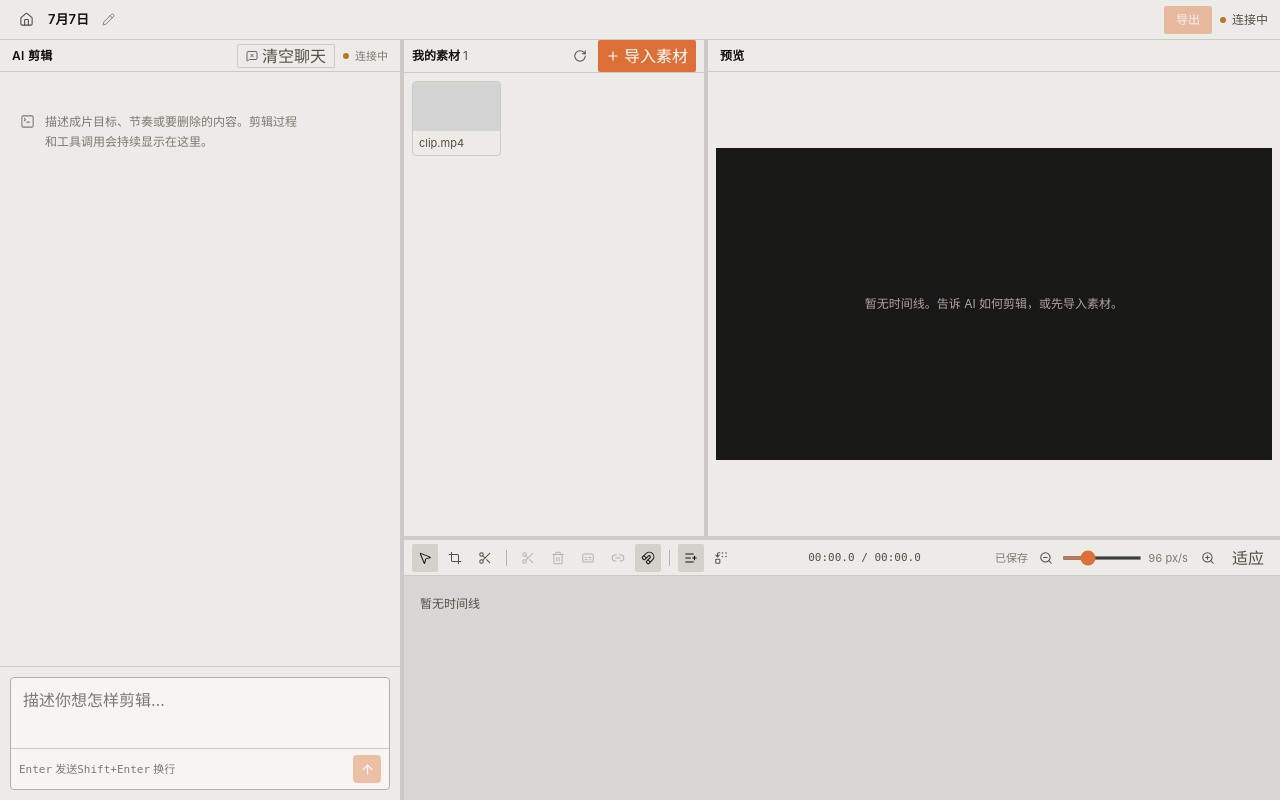
Test case: DraftEditorView › 单击素材瓦片在预览区挂载试看，再击取消回占位
Click the button titled "clip.mp4" at (457, 119), box [413,82,500,155]
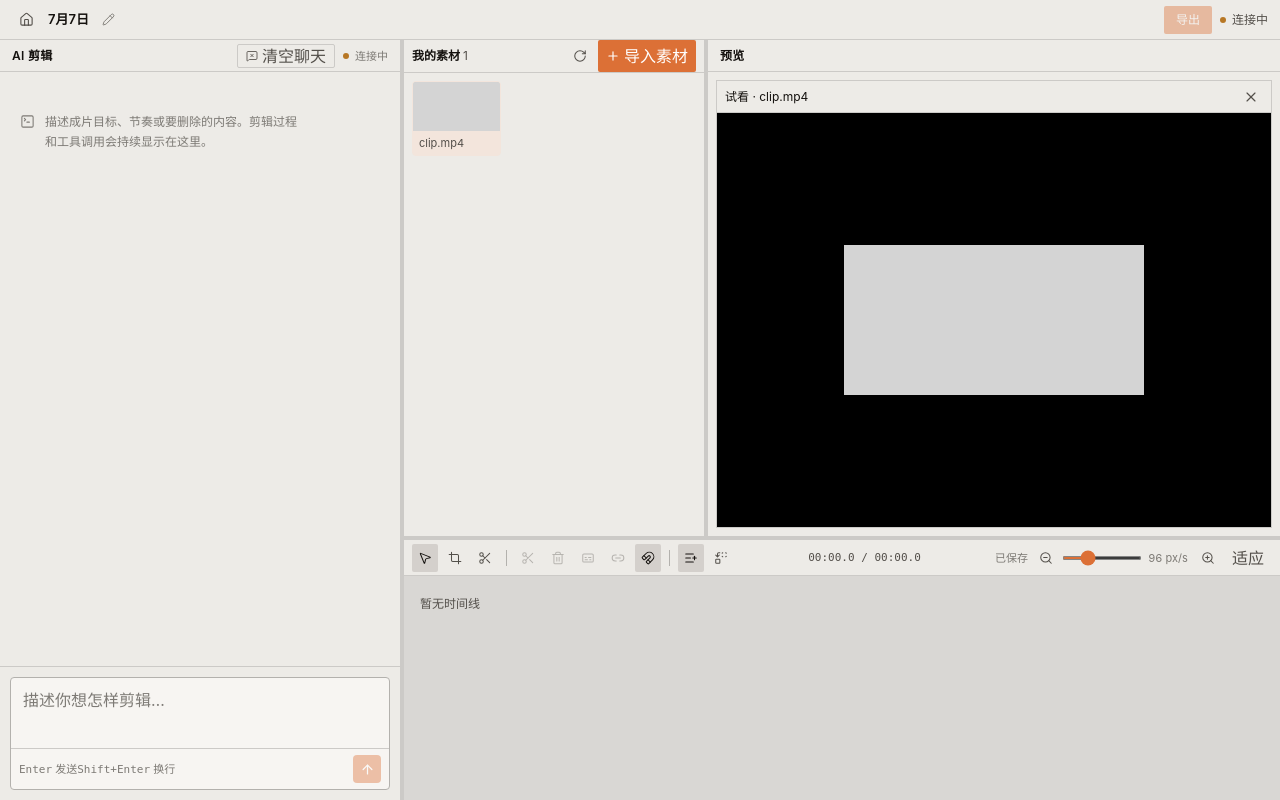
Check: the text "试看 · clip.mp4" is shown, box [725,88,808,104]
再次单击同一瓦片取消试看，回到「暂无时间线」占位
Click the button titled "clip.mp4" at (457, 119), box [413,82,500,155]
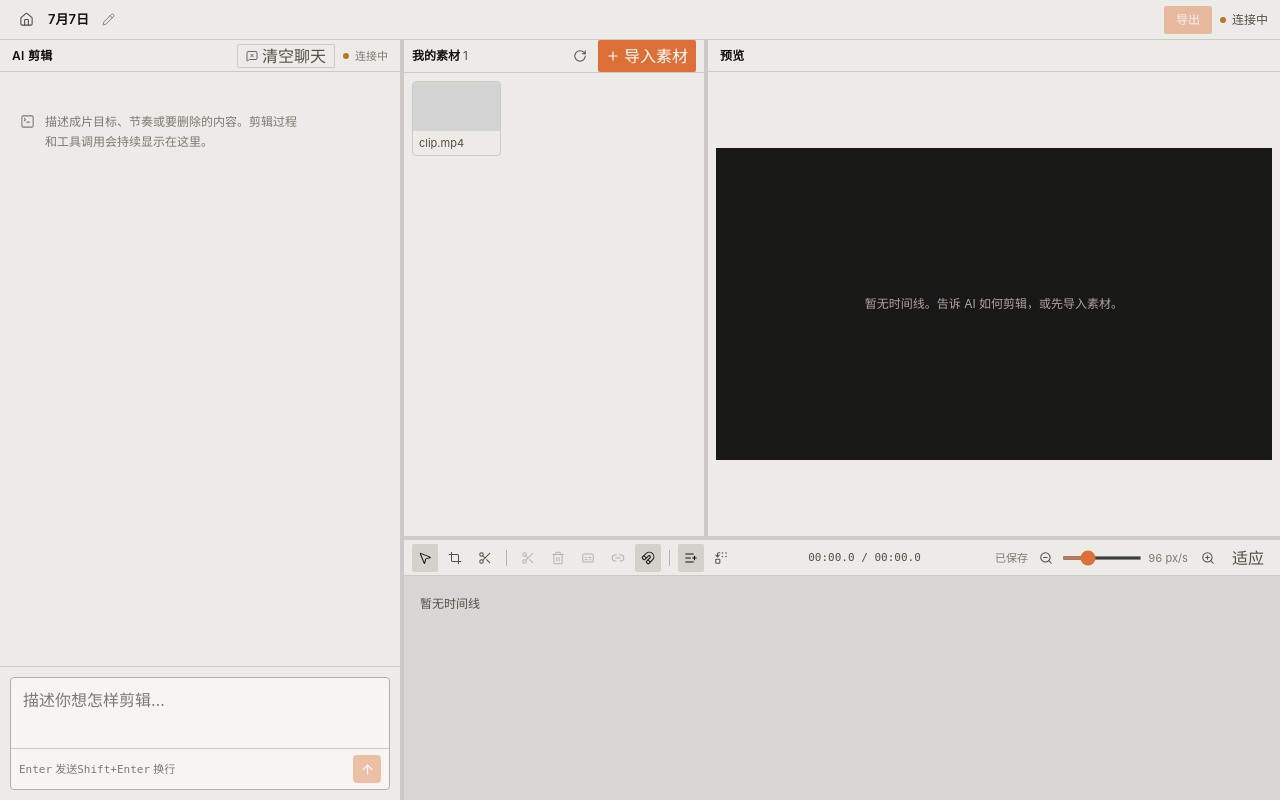
Check: the text "暂无时间线。告诉 AI 如何剪辑，或先导入素材。" is shown, box [865,294,1123,314]
